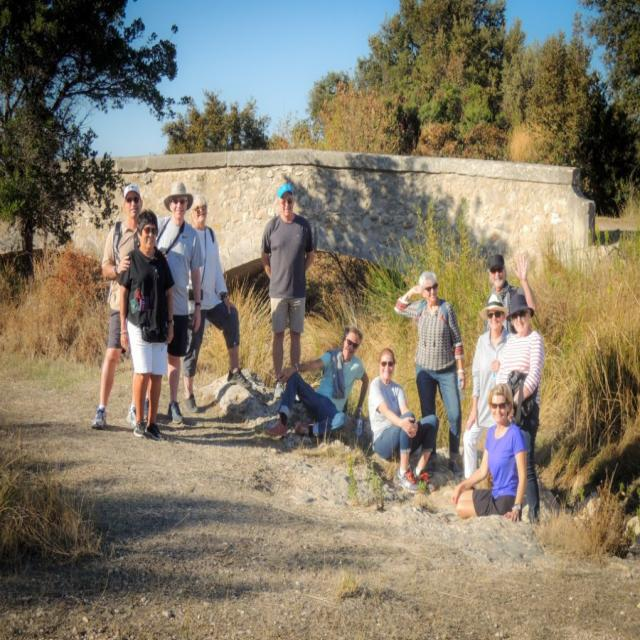body: (88, 180, 170, 431), (181, 192, 253, 414), (392, 268, 467, 480), (115, 206, 176, 444), (262, 324, 371, 442), (259, 180, 316, 403), (494, 293, 547, 525), (153, 182, 203, 425), (450, 379, 528, 526), (366, 345, 440, 494), (462, 291, 516, 482), (483, 251, 538, 335)
